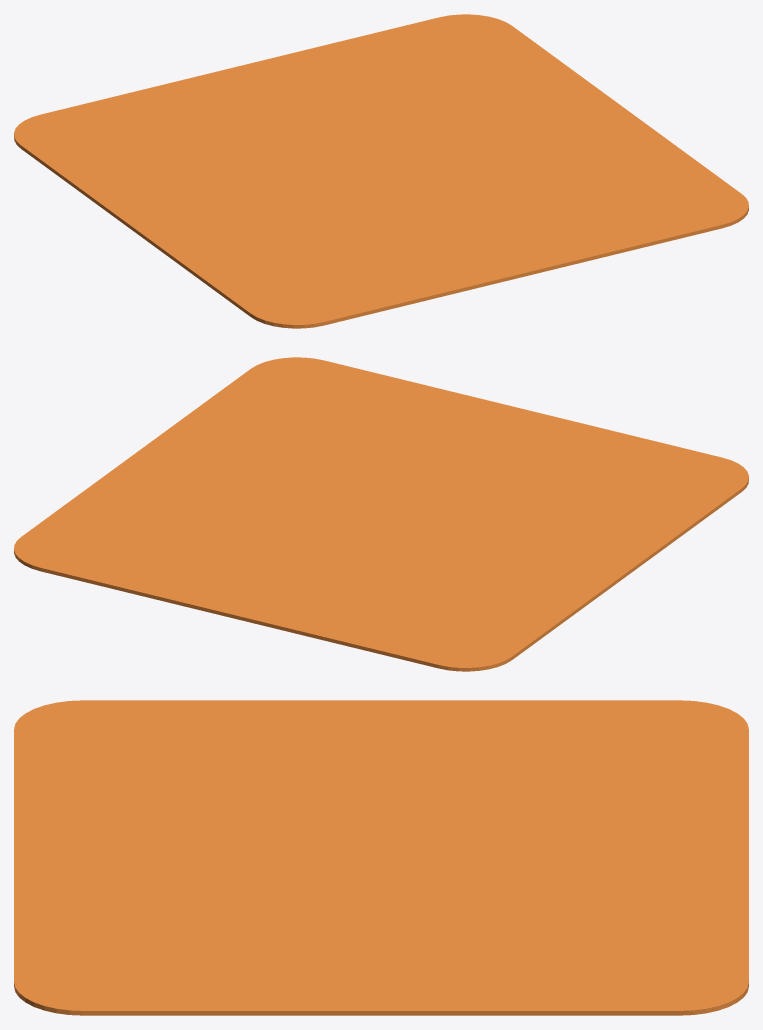
The model's file is ToolsRoof.fbx.
3 renders of one model, top to bottom at view 1: azimuth 30°, elevation 25°; view 2: azimuth 150°, elevation 25°; view 3: azimuth 270°, elevation 25°, orthographic. The views are drawn at different scales.
Parts seen in each view (by area): view 1: Plane; view 2: Plane; view 3: Plane.
Boxes of the visible parts, left/top/right/bottom form: Plane: left=14, top=14, right=748, bottom=328; Plane: left=14, top=357, right=748, bottom=671; Plane: left=14, top=700, right=748, bottom=1015.
Size of the model in its own units: 1264 by 8.8 by 1264.
